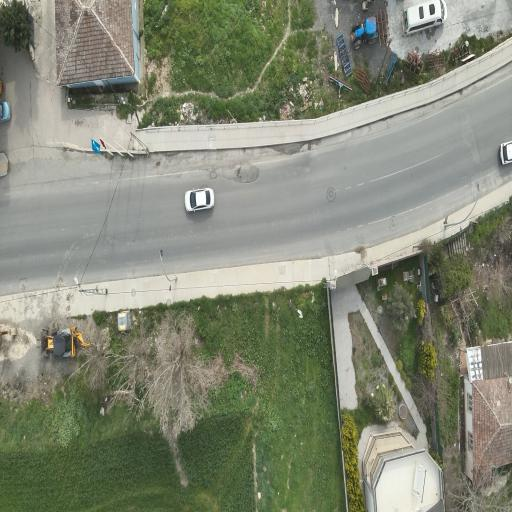car: (42, 328, 91, 358), (185, 188, 214, 212), (500, 141, 512, 164), (117, 309, 130, 330), (0, 100, 9, 120)
